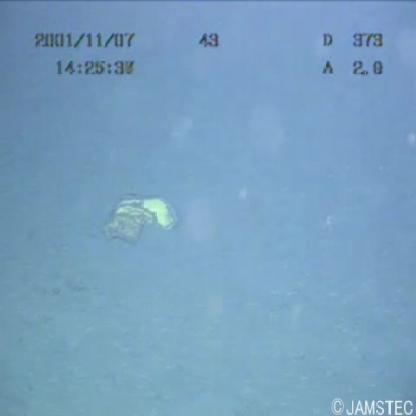Rác: (90, 190, 188, 250)
